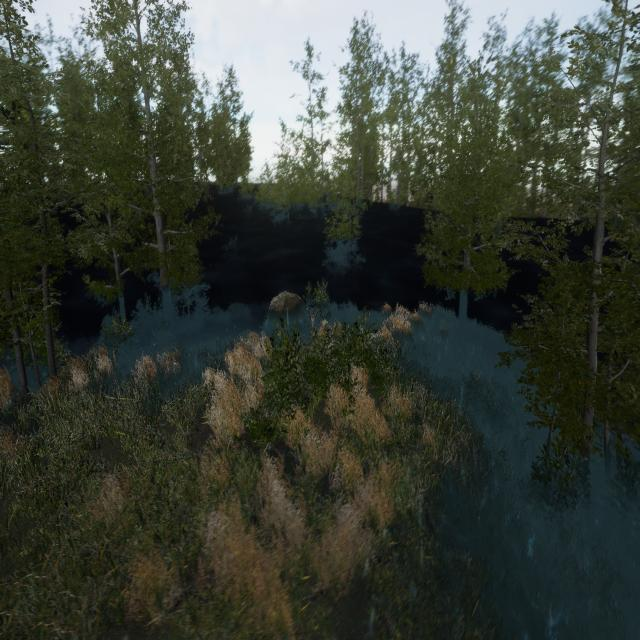Human: (306, 305, 322, 354)
